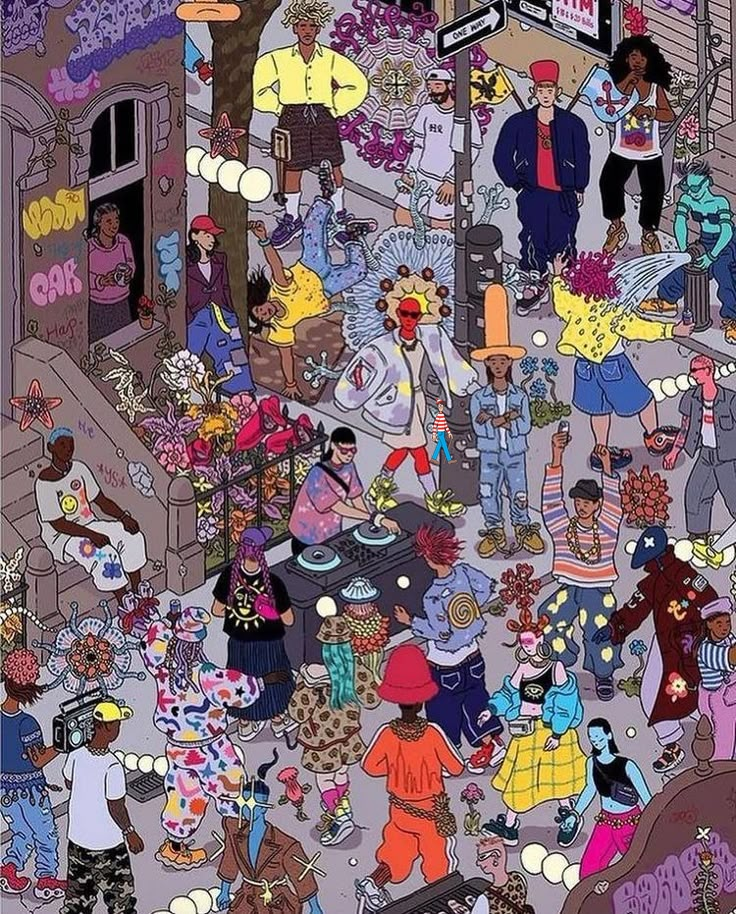waldo: (430, 398, 458, 465)
